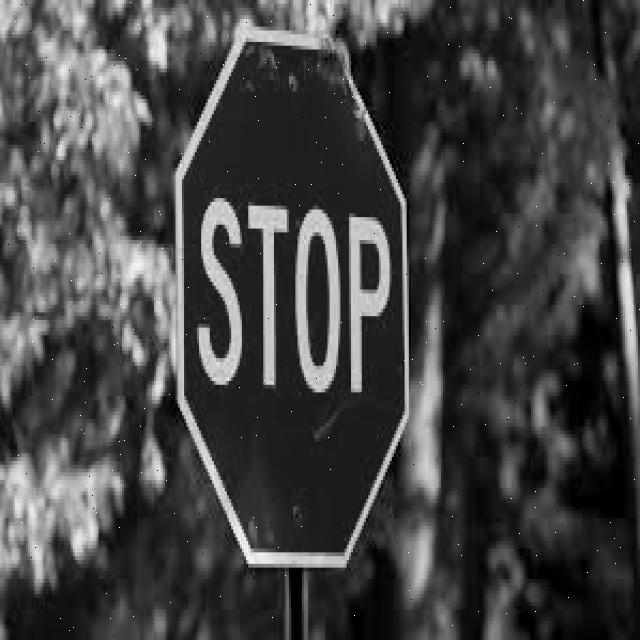Stop-sign: (166, 5, 426, 589)
